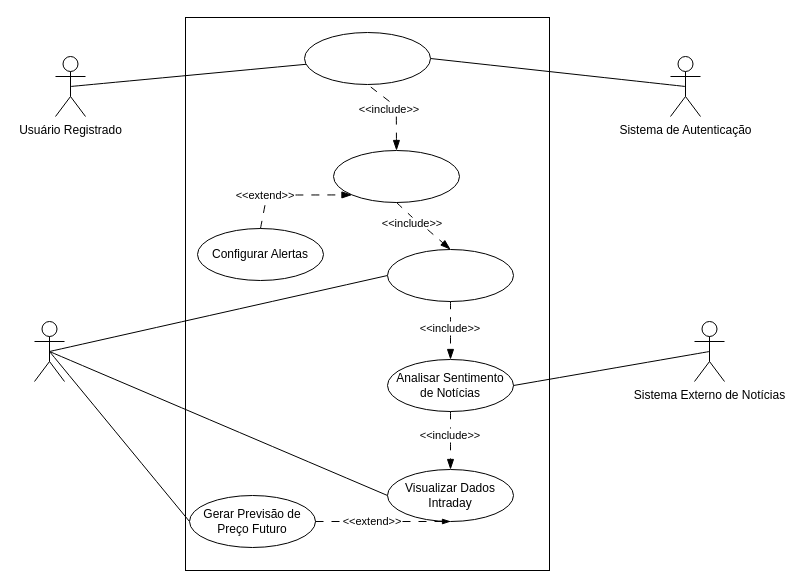
Image size: 802x588. Some labels were removed from this diagram. The box of each missing label's shape, as (x1, y1, x2, y2) in pixels:
API Externa: (34, 320, 64, 382)
Autenticar Usuário: (304, 32, 430, 84)
Selecionar Ativo Financeiro: (332, 150, 460, 202)
Visualizar Dados Históricos: (386, 248, 514, 302)
